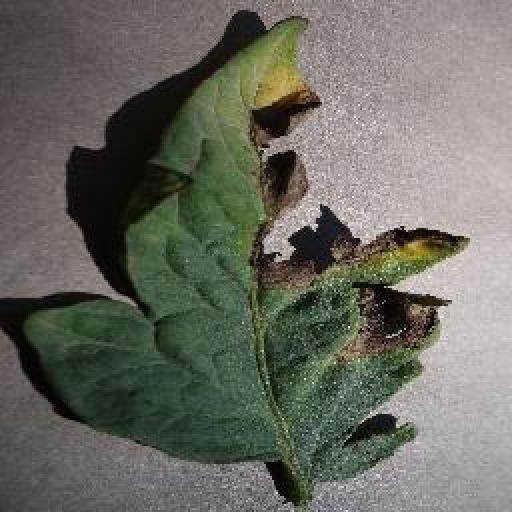Early Blight: (23, 17, 471, 512)
